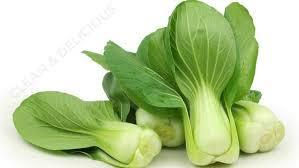Healthy-Pechay: (29, 2, 285, 164)
